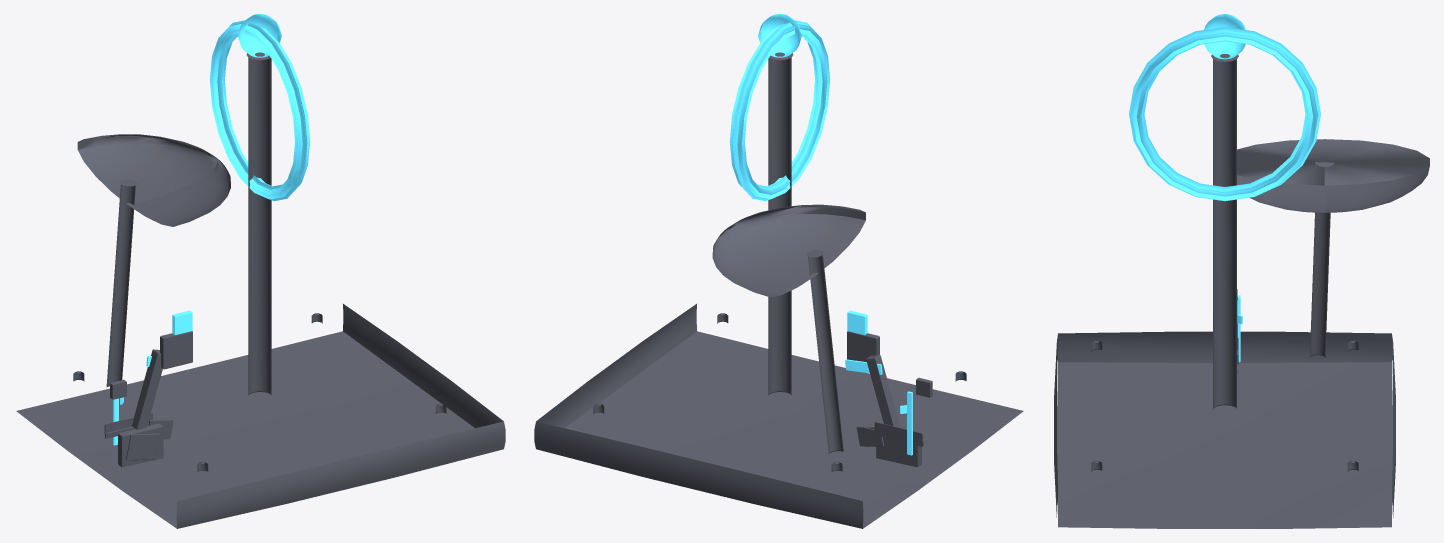
File: greeble_antennas.glb
3 renders of one model, left to right at view 1: azimuth 30°, elevation 25°; view 2: azimuth 150°, elevation 25°; view 3: azimuth 270°, elevation 25°, orthographic. The views are drawn at different scales.
Parts seen in each view (by area): view 1: greeble_antennas_Material_Hull_Merged, greeble_antennas_Material_Mechanical_Merged, Antenna_Loop, DET_coax_cable, DET_dish_mount, Antenna_Beacon, DET_mount_flange, DET_dock_scuff; view 2: greeble_antennas_Material_Hull_Merged, greeble_antennas_Material_Mechanical_Merged, Antenna_Loop, DET_coax_cable, Antenna_Beacon, DET_mount_flange, DET_dish_mount; view 3: greeble_antennas_Material_Hull_Merged, greeble_antennas_Material_Mechanical_Merged, Antenna_Loop, Antenna_Beacon.
Boxes of the visible parts, bbox=[...] form: greeble_antennas_Material_Hull_Merged: bbox=[16, 134, 505, 528]; greeble_antennas_Material_Mechanical_Merged: bbox=[73, 52, 446, 471]; Antenna_Loop: bbox=[209, 20, 310, 201]; DET_coax_cable: bbox=[132, 349, 162, 429]; DET_dish_mount: bbox=[160, 331, 192, 369]; Antenna_Beacon: bbox=[238, 14, 281, 57]; DET_mount_flange: bbox=[118, 423, 163, 467]; DET_dock_scuff: bbox=[126, 433, 160, 460]; greeble_antennas_Material_Hull_Merged: bbox=[534, 204, 1023, 528]; greeble_antennas_Material_Mechanical_Merged: bbox=[593, 52, 966, 471]; Antenna_Loop: bbox=[729, 20, 830, 201]; DET_coax_cable: bbox=[866, 354, 900, 435]; Antenna_Beacon: bbox=[758, 14, 801, 57]; DET_mount_flange: bbox=[876, 437, 921, 467]; DET_dish_mount: bbox=[847, 331, 879, 362]; greeble_antennas_Material_Hull_Merged: bbox=[1054, 139, 1429, 528]; greeble_antennas_Material_Mechanical_Merged: bbox=[1091, 54, 1358, 472]; Antenna_Loop: bbox=[1129, 27, 1320, 201]; Antenna_Beacon: bbox=[1204, 14, 1245, 59].
Size of the model in its own units: 2.8 by 3.44 by 2.64.
